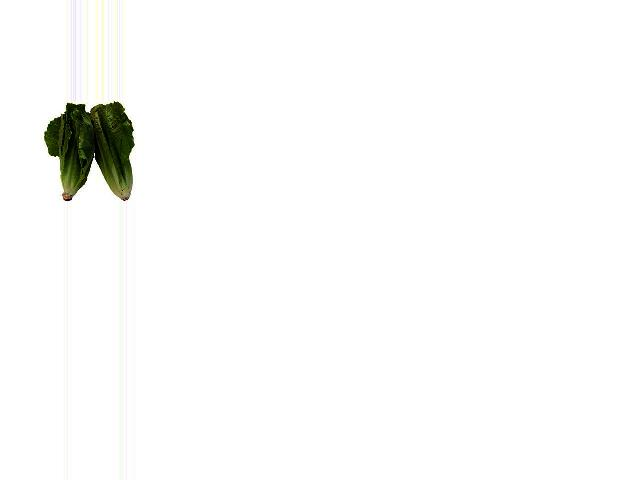lettuce: (54, 102, 138, 202)
